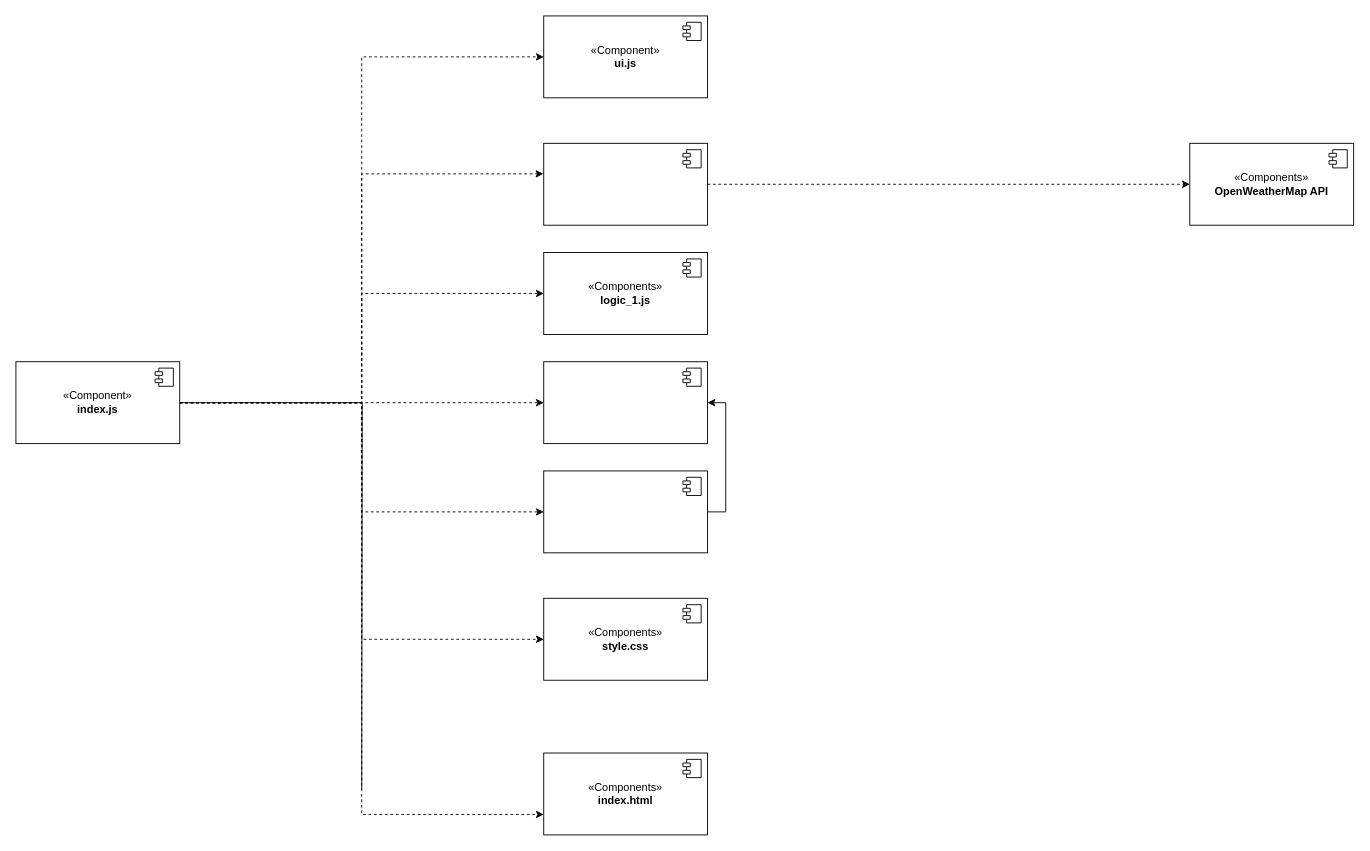
This 1370x851 diagram has some shape labels left out. The centre of each missing label's shape, as x and y in pixels:
"«Components» api.js" goes at (625,183).
"«Components» logic_2.js" goes at (625,402).
"«Components» logic_3.js" goes at (625,511).
